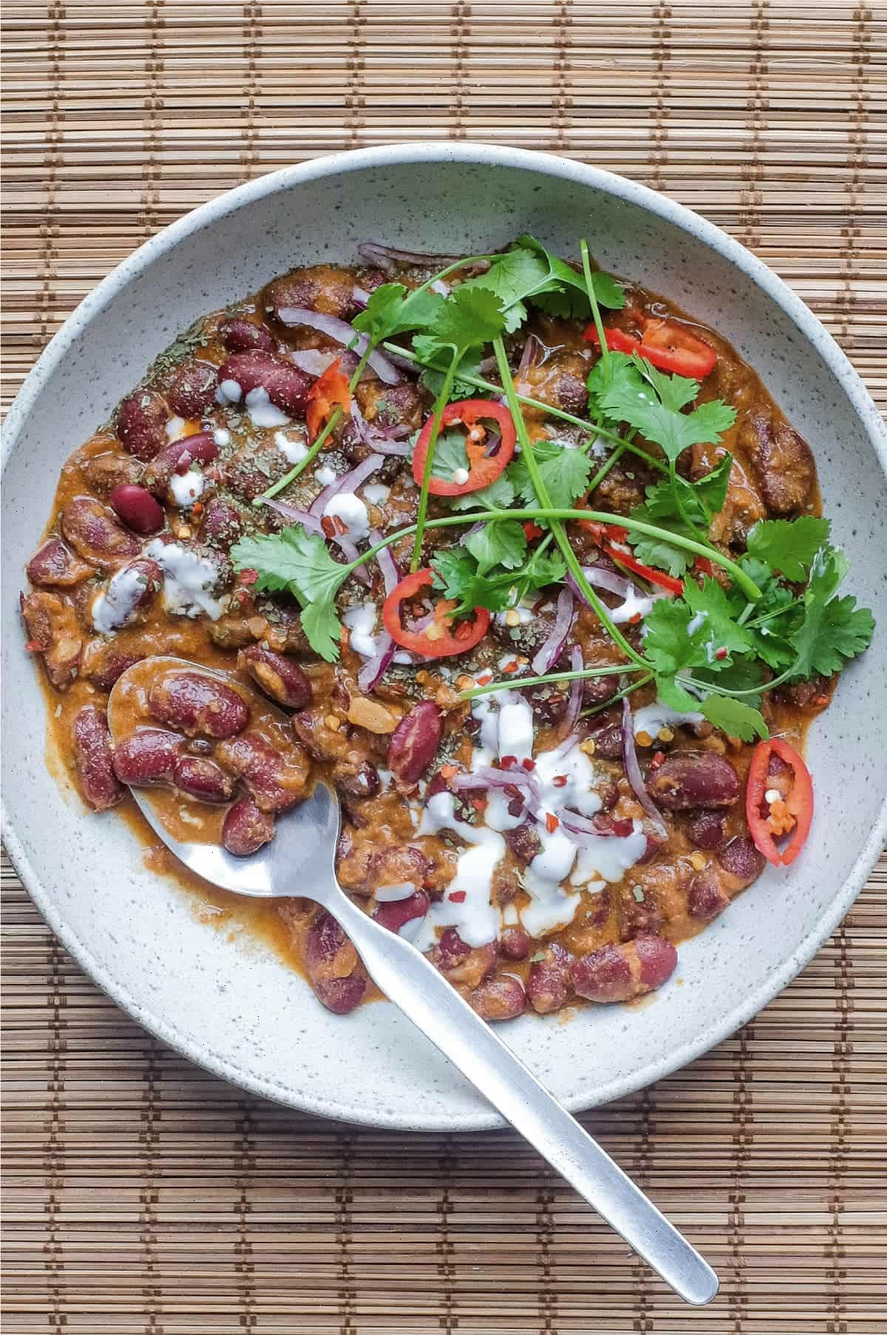rajma: (74, 300, 791, 936)
